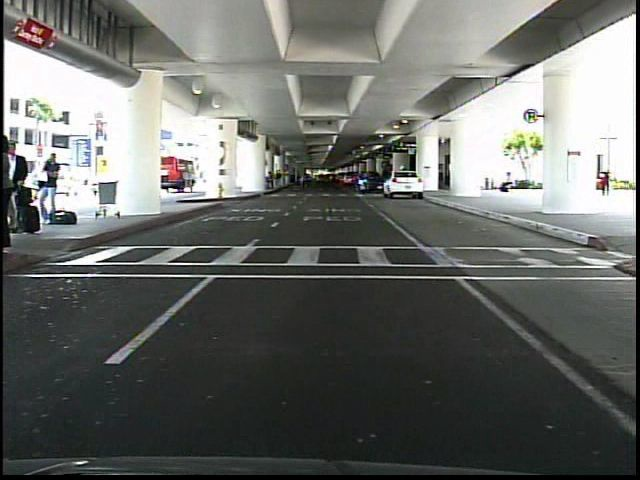person: (38, 148, 63, 225), (593, 163, 616, 203), (496, 166, 516, 198)
